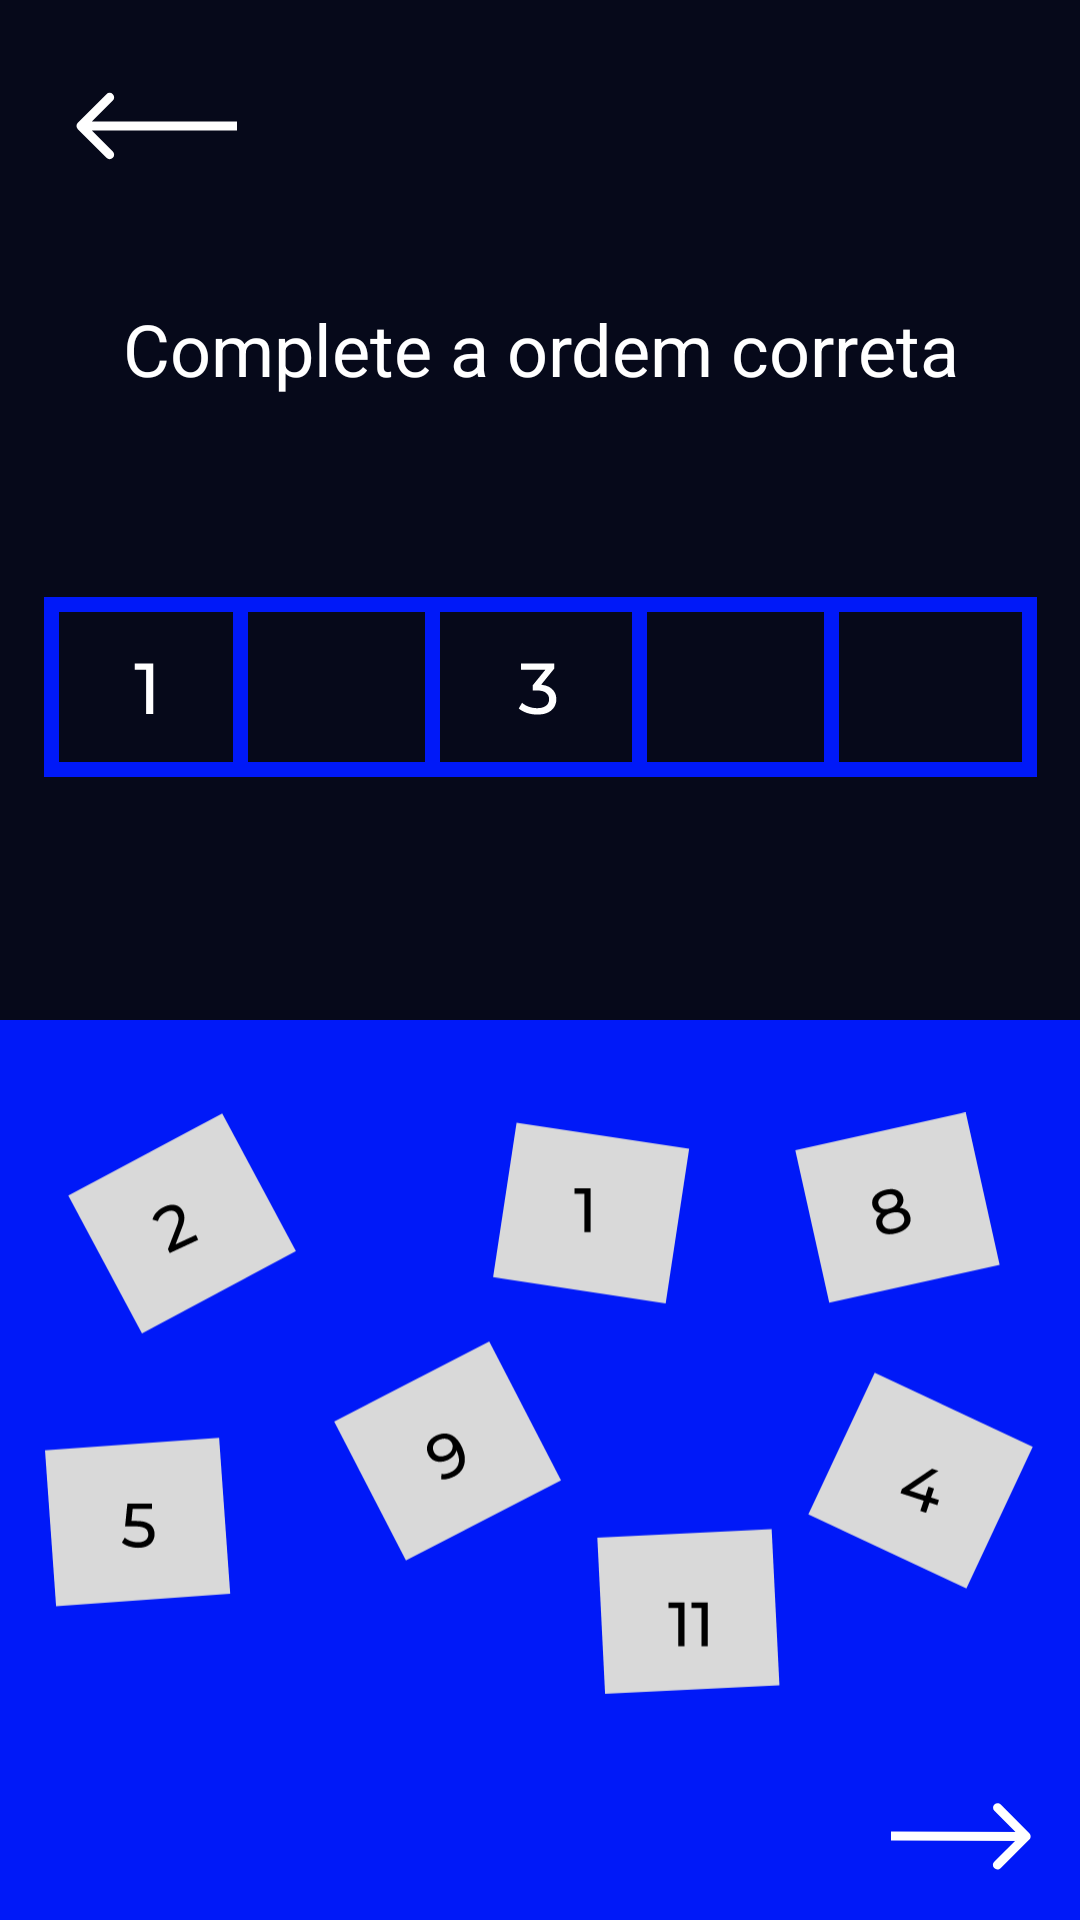

Where to tap for icons on this 1080×1920 app screen, as [x,y]:
phases back arrow: [156,126]
phases next arrow: [961,1836]
